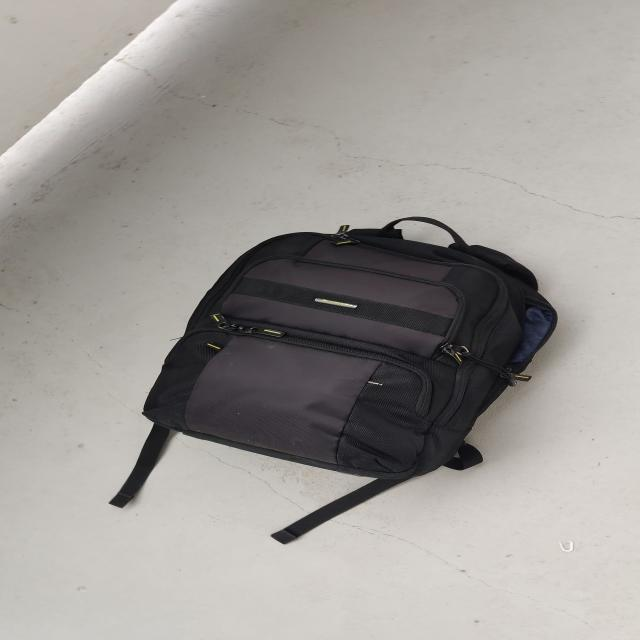backpack: (134, 206, 568, 491)
